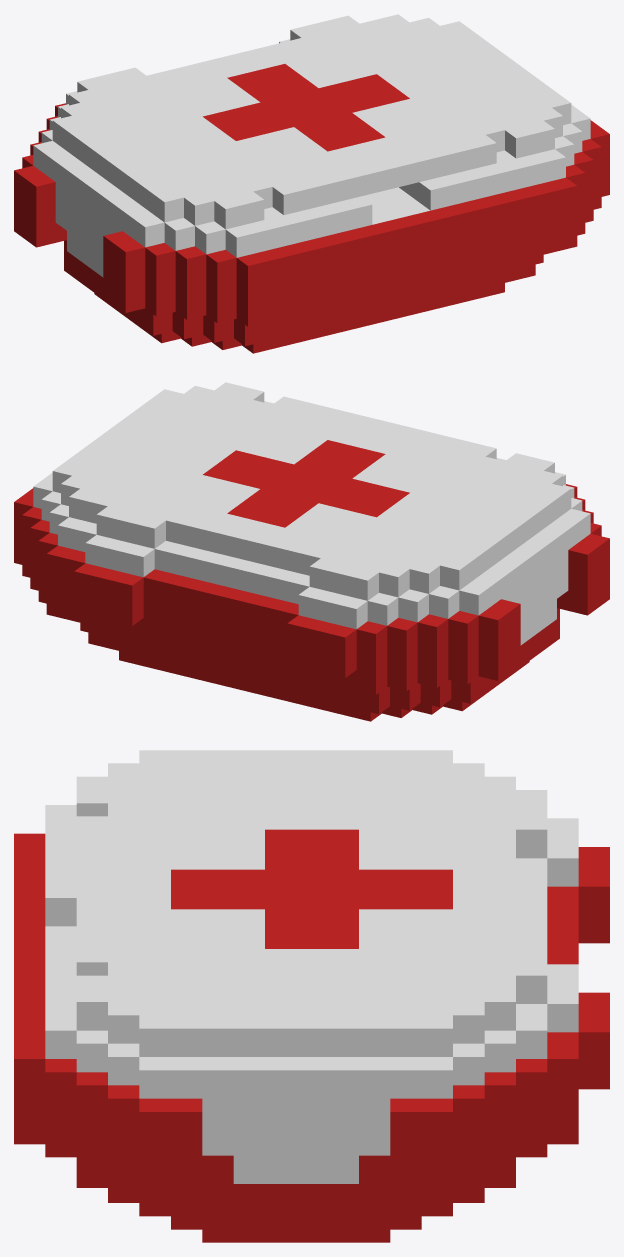
File: MedKit (2) 1.obj
3 views of the same model, one above another, from view 1: azimuth 30°, elevation 25°; view 2: azimuth 150°, elevation 25°; view 3: azimuth 270°, elevation 25° (orthographic). The views are drawn at different scales.
Bounding box in the file's own units: 2.5 × 0.8 × 1.9.
1 material, 1 textured.
